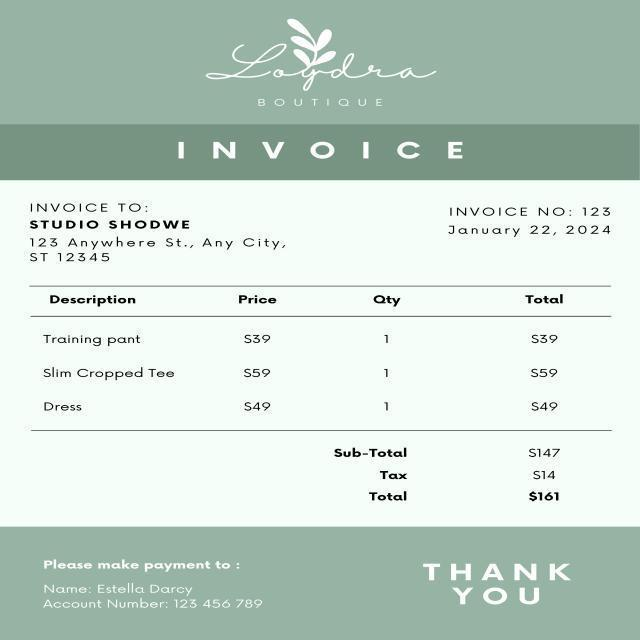ROI: (35, 283, 596, 424), (19, 187, 303, 272), (201, 33, 448, 116), (321, 435, 582, 510), (36, 555, 269, 614), (165, 131, 470, 170), (437, 197, 620, 246), (418, 558, 575, 610)
